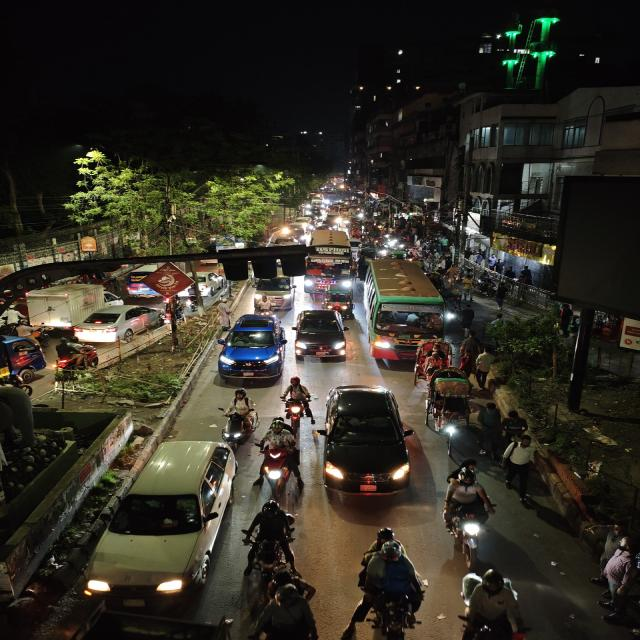bus: (360, 259, 453, 359), (302, 246, 358, 294)
car: (90, 438, 237, 600), (320, 381, 414, 501), (215, 312, 287, 386), (73, 304, 164, 344), (292, 307, 350, 363), (247, 278, 294, 310), (123, 272, 155, 299), (198, 270, 228, 294)
cng: (321, 290, 355, 312)
motorcycle: (352, 528, 429, 638), (440, 456, 497, 558), (242, 502, 300, 580), (258, 416, 299, 490), (216, 388, 258, 446), (52, 338, 101, 376), (280, 374, 314, 420)
pedestrian: (500, 433, 540, 501), (596, 544, 638, 600), (458, 332, 486, 384), (477, 401, 502, 456), (499, 408, 530, 442), (472, 349, 494, 388), (456, 299, 479, 331), (492, 283, 511, 311)
pickup_van: (0, 332, 47, 378)
rickshaw: (425, 368, 474, 446), (426, 366, 474, 406), (412, 337, 452, 382)
truck: (23, 286, 115, 318)
